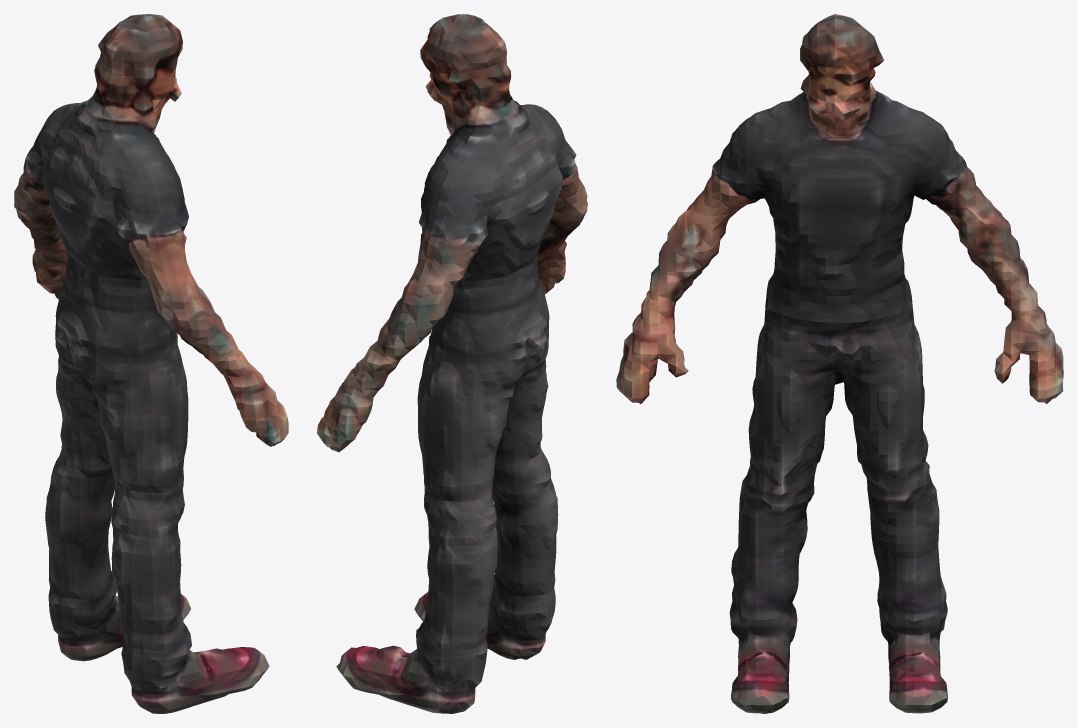
3 renders of one model, left to right at view 1: azimuth 30°, elevation 25°; view 2: azimuth 150°, elevation 25°; view 3: azimuth 270°, elevation 25°, orthographic.
Parts seen in each view (by area): view 1: mesh.obj; view 2: mesh.obj; view 3: mesh.obj.
Boxes of the visible parts, x1,y1,x2,y2 form: mesh.obj: [14, 14, 288, 713]; mesh.obj: [317, 14, 587, 713]; mesh.obj: [616, 14, 1063, 713].
Size of the model in its own units: 0.2616 by 1.02 by 0.6168.
Materials: 1 (1 with a texture image).
